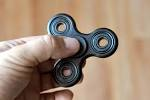fidget_spinner: (38, 10, 127, 84)
